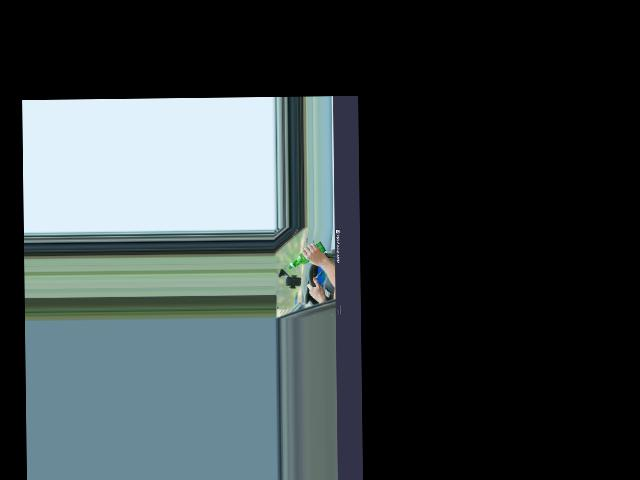beer: (288, 242, 326, 269)
